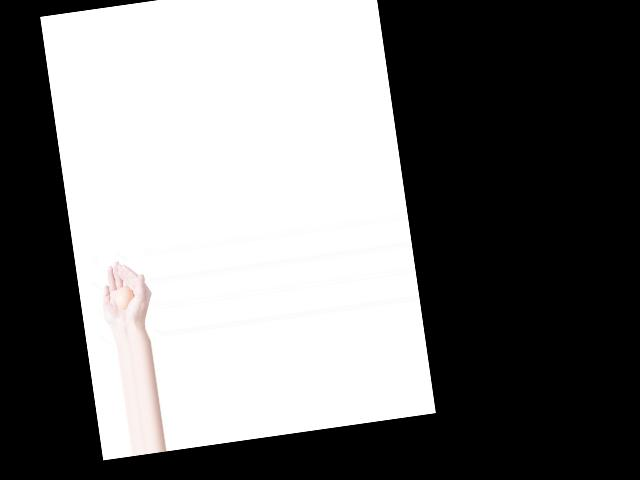egg: (115, 285, 135, 308)
